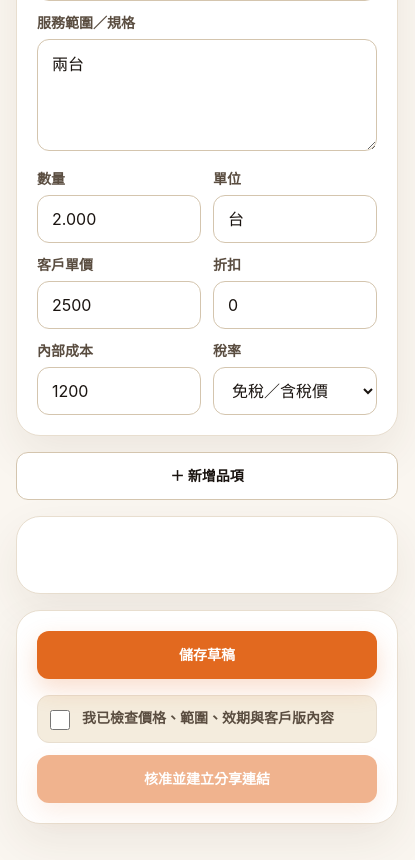
Test: PilotQuoteEditor › requires owner confirmation, locks the saved version, and exposes the one-time public URL
The image size is (415, 860).
(page scrolled)
Check: the button "核准並建立分享連結" is disabled, box [37,754,377,802]
What coordinates should you click on to do the following:
click the checkbox labelled "我已檢查價格、範圍、效期與客戶版內容"
I would click on:
 (60, 720)
Its box is [50,710,70,730].
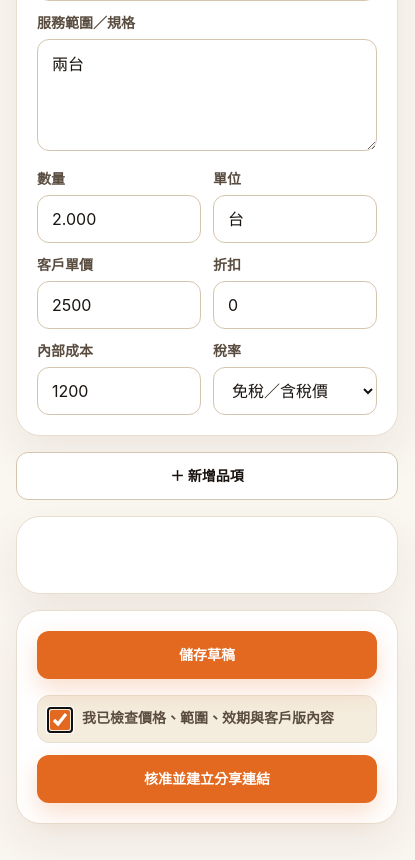
What coordinates should you click on to do the following:
click the button "核准並建立分享連結"
I would click on:
 (207, 778)
Its box is [37,754,377,802].
(page scrolled)
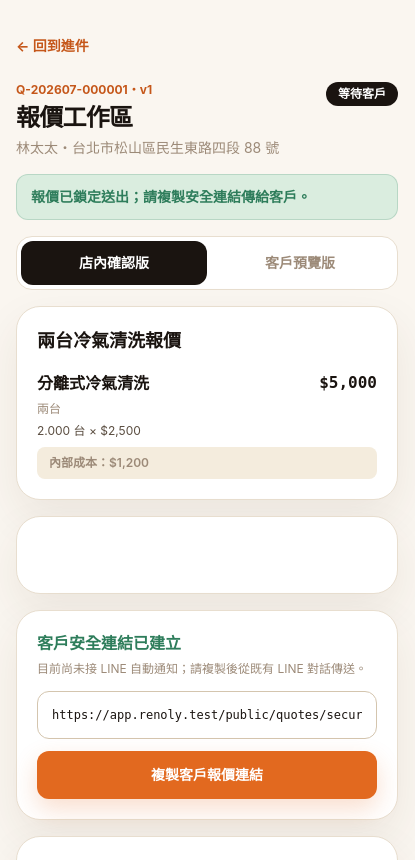
Check: the field named "客戶報價連結" holds "https://app.renoly.test/public/quotes/secure-token", box [37,690,377,738]
Check: the text "目前尚未接 LINE 自動通知；請複製後從既有 LINE 對話傳送。" is shown, box [37,658,377,678]
